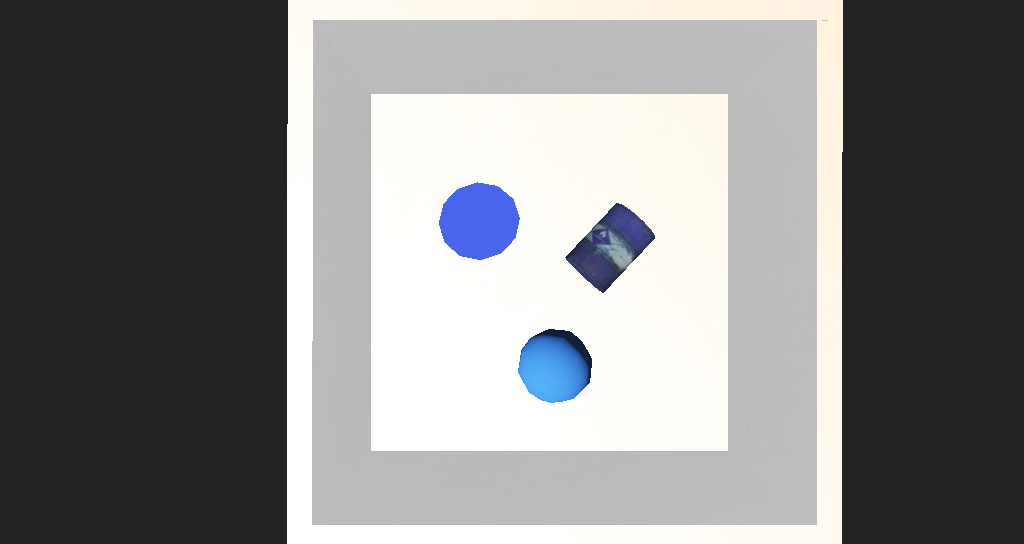cone: (522, 224, 596, 282)
cylinder: (411, 215, 478, 272)
sphere: (482, 303, 542, 346)
